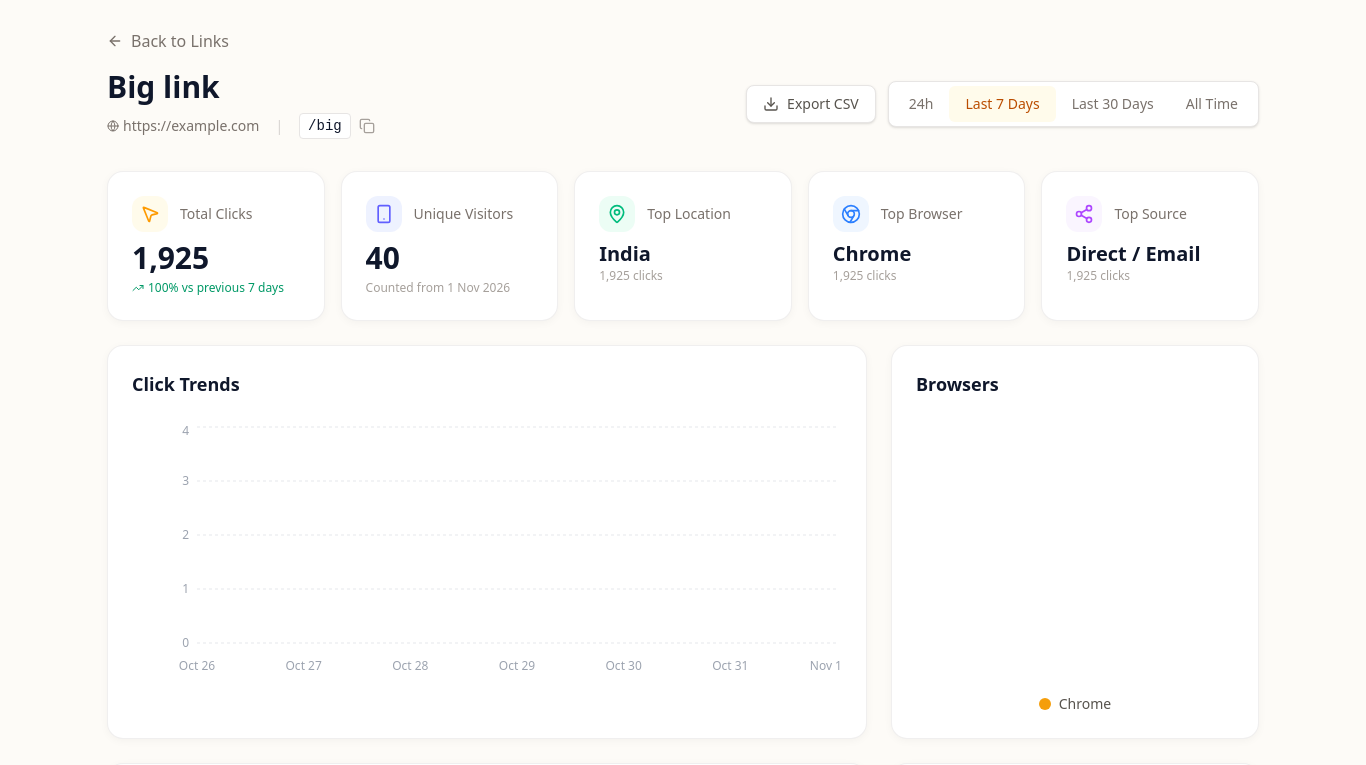
Test: link analytics page › switches range and goes back to the first page
Click the button "All Time" at (1212, 104), box [1170,86,1254,122]
(page scrolled)
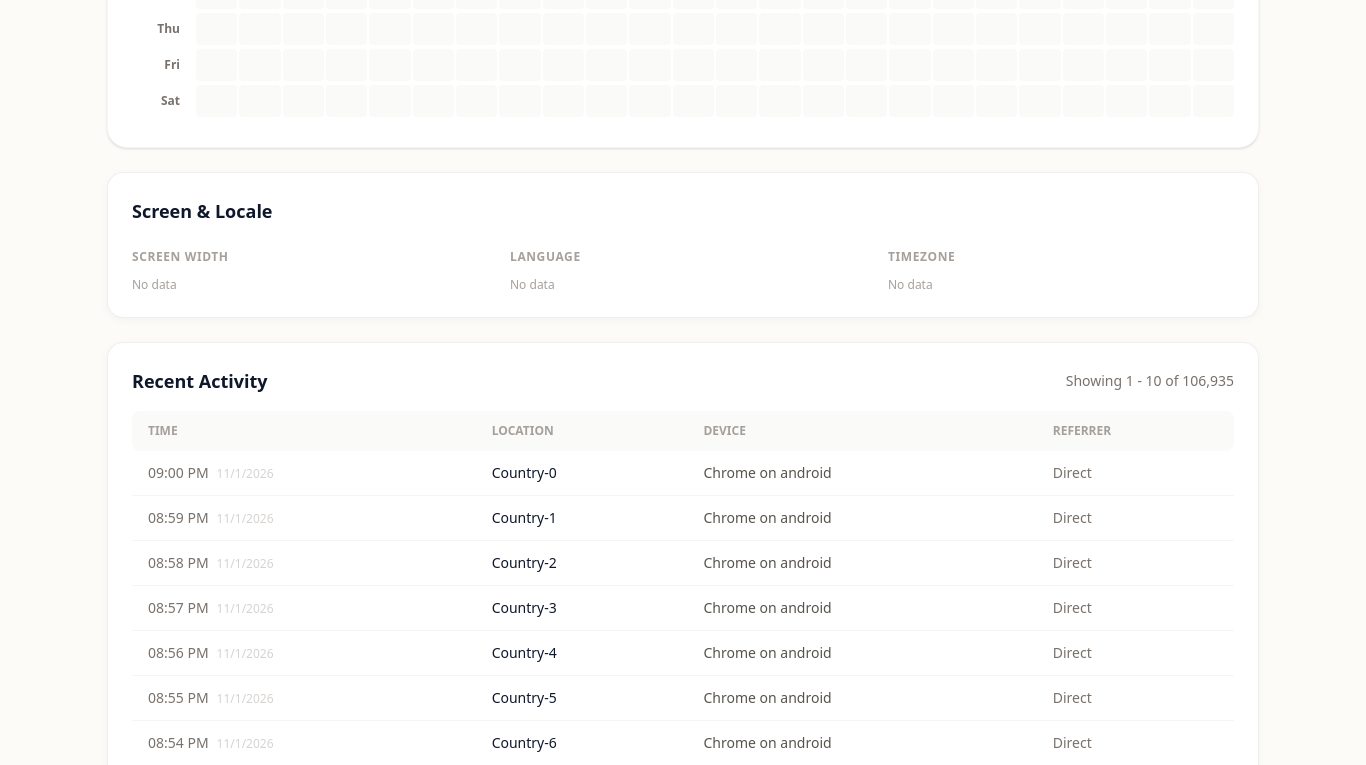
Now the text "Showing 1 - 10 of 106,935" is shown, box [1066,371,1234,391]
